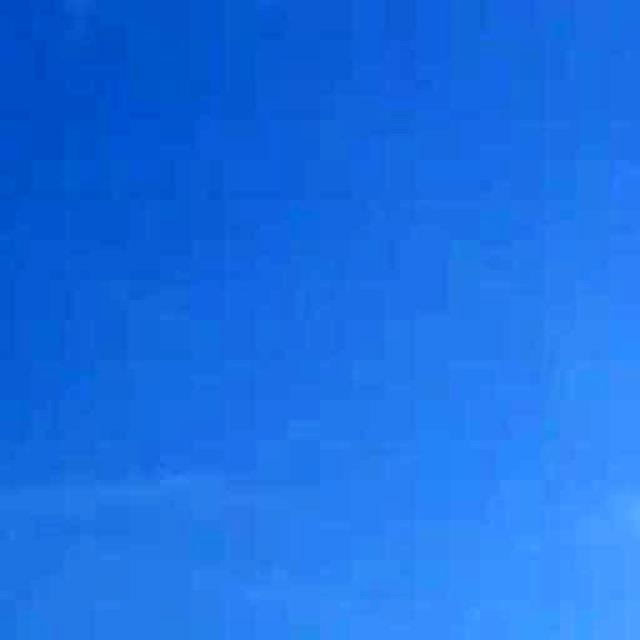drone: (205, 621, 255, 640)
